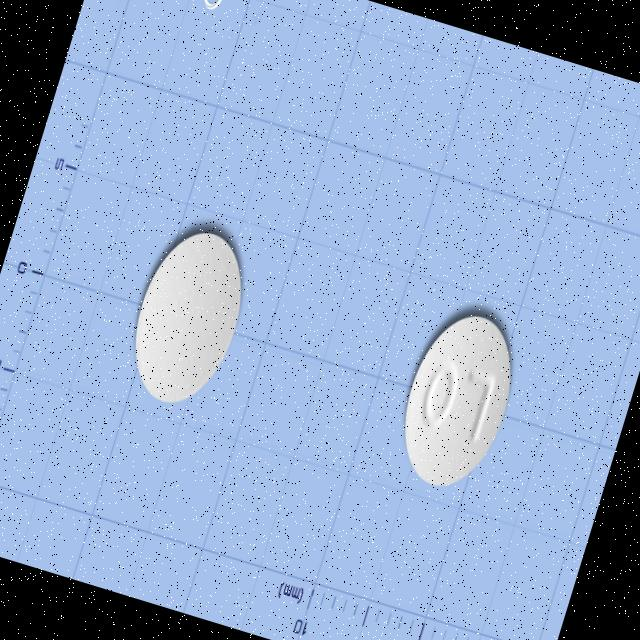Lebofacin: (384, 302, 530, 500), (116, 220, 259, 416)
